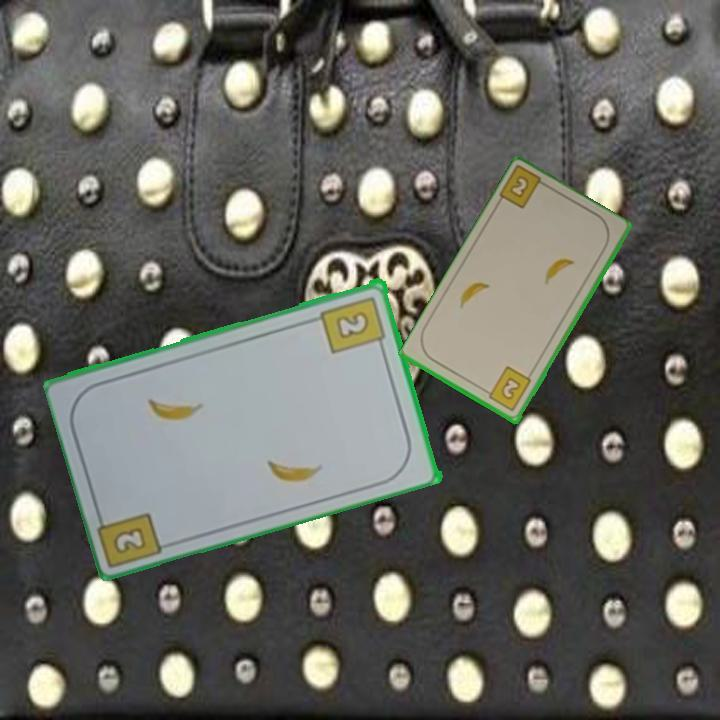2b: (318, 292, 389, 356), (496, 164, 553, 212), (481, 363, 534, 414), (110, 523, 150, 557)
